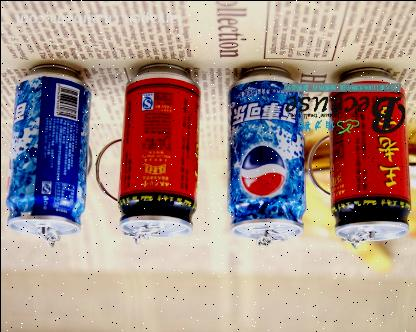Can: (6, 63, 91, 246), (117, 63, 199, 242), (227, 66, 305, 245), (328, 87, 410, 241), (337, 67, 397, 81)
